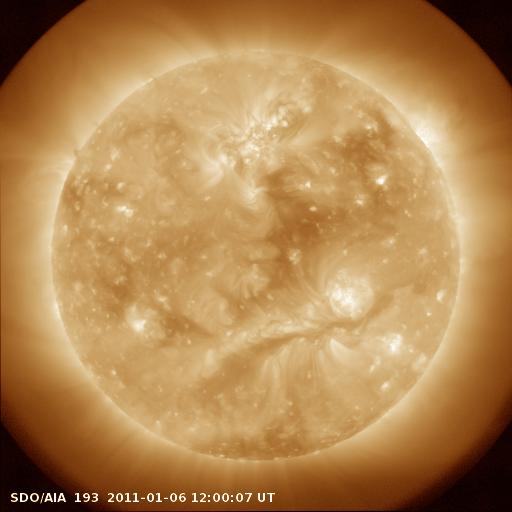coronal_hole: (252, 167, 331, 293), (329, 107, 389, 192), (200, 425, 345, 456)
